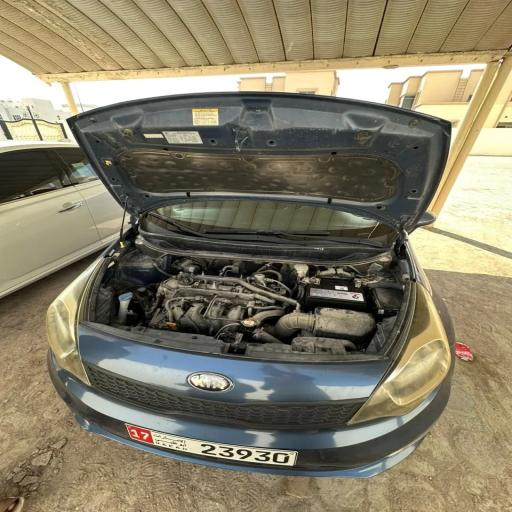license-plates: (124, 423, 298, 467)
